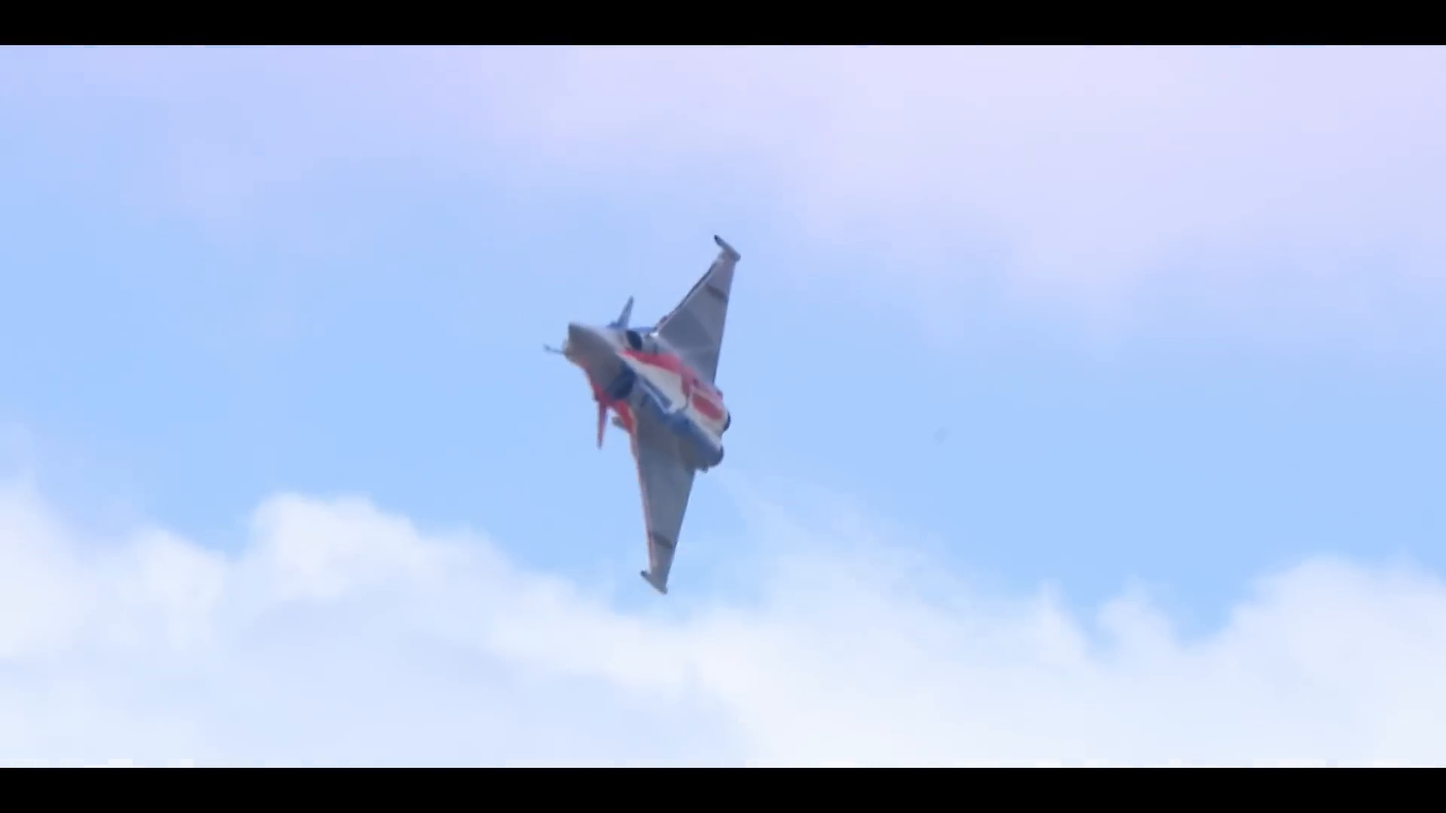Rafale: (527, 219, 749, 600)
